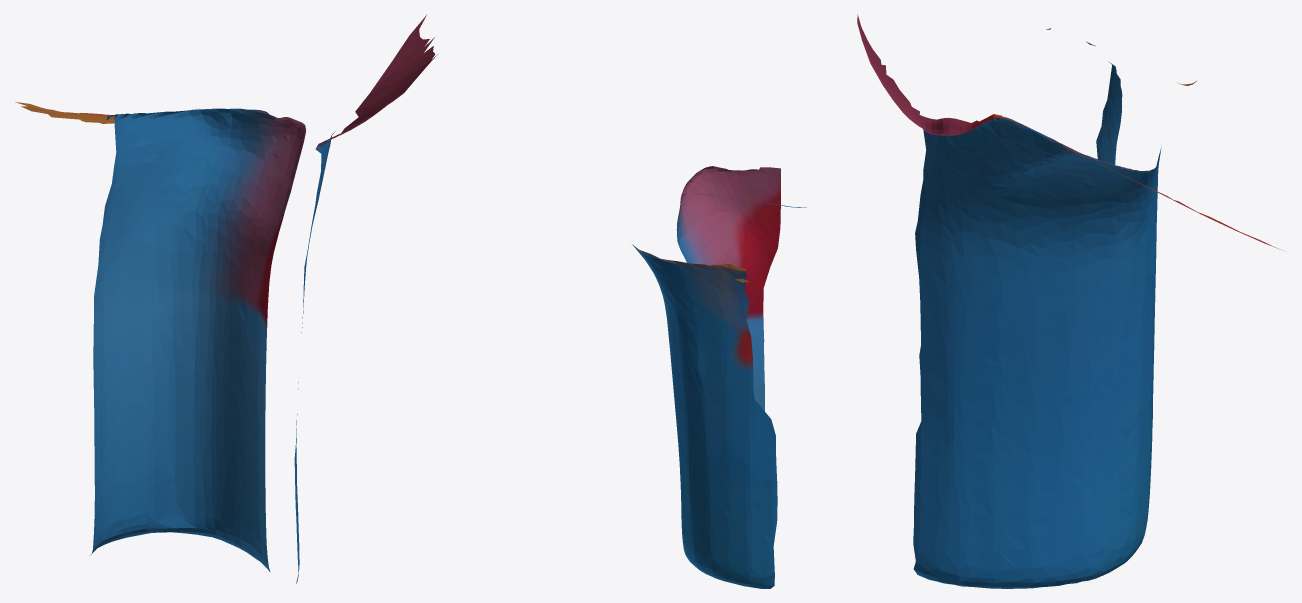
The picture shows the model from 3 angles, left to right: view 1: azimuth 30°, elevation 25°; view 2: azimuth 150°, elevation 25°; view 3: azimuth 270°, elevation 25°; orthographic projection. The views are drawn at different scales.
Parts seen in each view (by area): view 1: tripo_mesh_045d8eb0-72ec-4624-9759-a425f321d17a; view 2: tripo_mesh_045d8eb0-72ec-4624-9759-a425f321d17a; view 3: tripo_mesh_045d8eb0-72ec-4624-9759-a425f321d17a.
Part boxes in pixels (bbox=[...]): tripo_mesh_045d8eb0-72ec-4624-9759-a425f321d17a: bbox=[15, 15, 437, 583]; tripo_mesh_045d8eb0-72ec-4624-9759-a425f321d17a: bbox=[632, 166, 806, 588]; tripo_mesh_045d8eb0-72ec-4624-9759-a425f321d17a: bbox=[857, 14, 1282, 588].
Size of the model in its own units: 0.149 by 0.2488 by 0.1562.
1 material, 1 textured.
